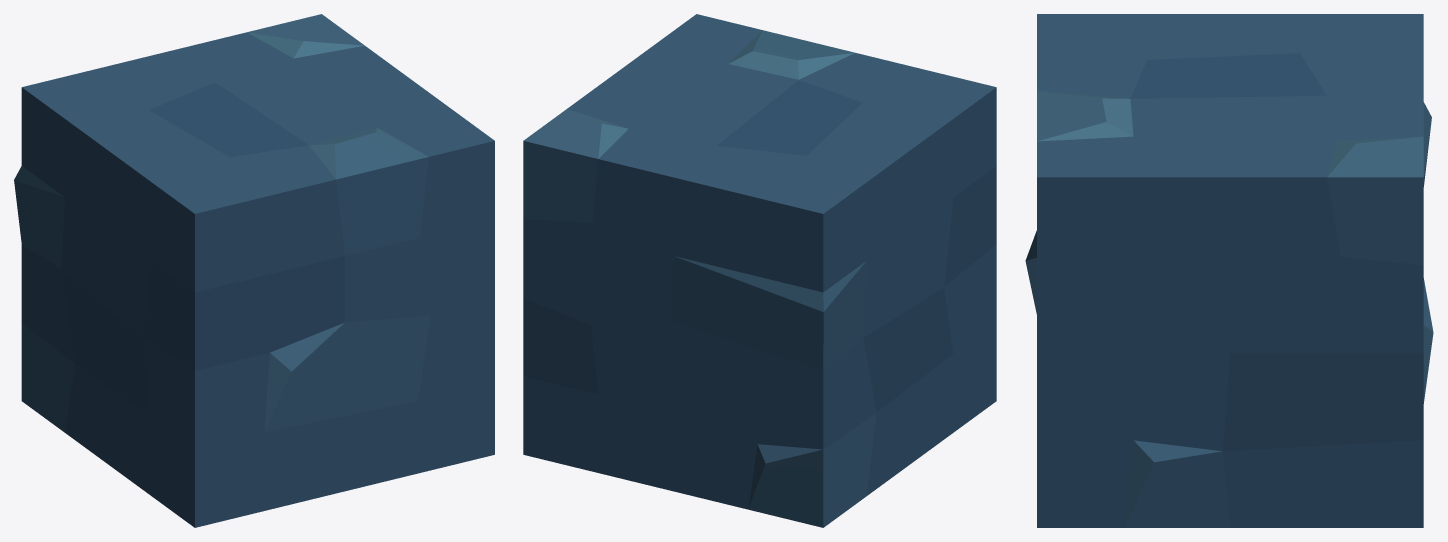
Rendered from backfill_2m.fbx.
The picture shows the model from 3 angles, left to right: view 1: azimuth 30°, elevation 25°; view 2: azimuth 150°, elevation 25°; view 3: azimuth 270°, elevation 25°; orthographic projection. The views are drawn at different scales.
Visible parts, largest first — view 1: backfill_2m; view 2: backfill_2m; view 3: backfill_2m.
Boxes of the visible parts, x1,y1,x2,y2 form: backfill_2m: (14, 14, 494, 527); backfill_2m: (523, 14, 996, 527); backfill_2m: (1025, 14, 1433, 527).
Bounding box in the file's own units: 207 × 209 × 211.
